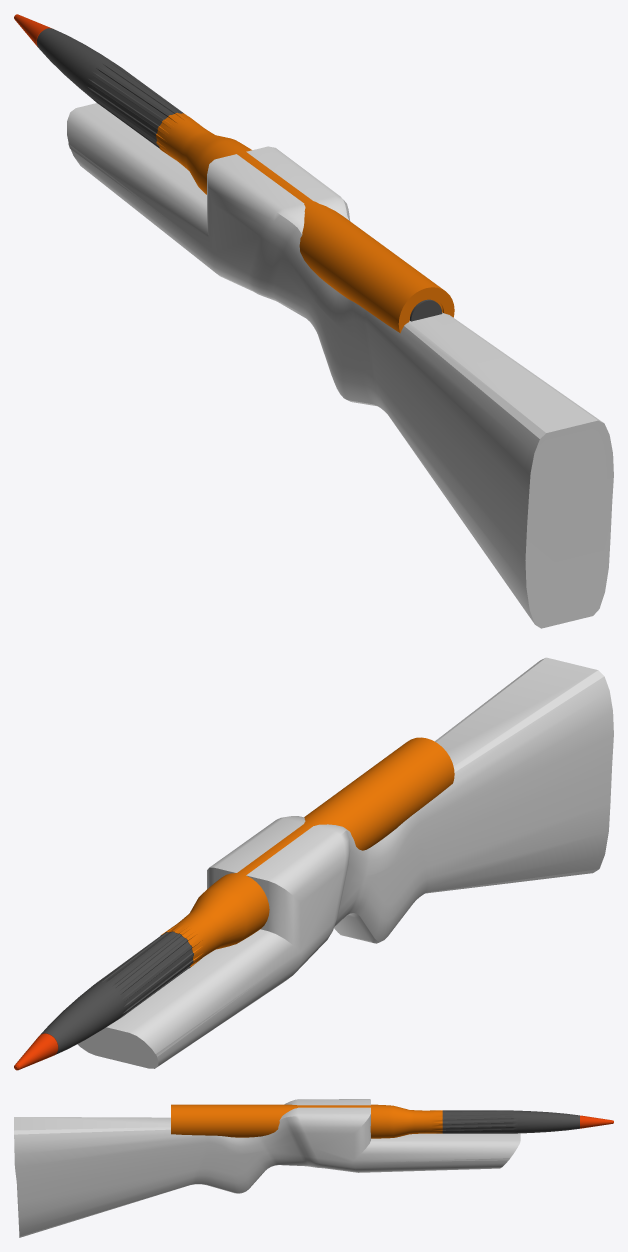
The model's file is elephantgun_bullet_with_shell.fbx.
The picture shows the model from 3 angles, top to bottom: view 1: azimuth 30°, elevation 25°; view 2: azimuth 150°, elevation 25°; view 3: azimuth 270°, elevation 25°; orthographic projection. The views are drawn at different scales.
Parts seen in each view (by area): view 1: Cube, Circle; view 2: Cube, Circle; view 3: Cube, Circle.
Boxes of the visible parts, bbox=[...] form: Cube: bbox=[67, 103, 613, 628]; Circle: bbox=[14, 14, 454, 333]; Cube: bbox=[77, 657, 613, 1068]; Circle: bbox=[14, 737, 454, 1070]; Cube: bbox=[14, 1099, 520, 1237]; Circle: bbox=[171, 1104, 613, 1138].
Size of the model in its own units: 127 by 322 by 1402.
